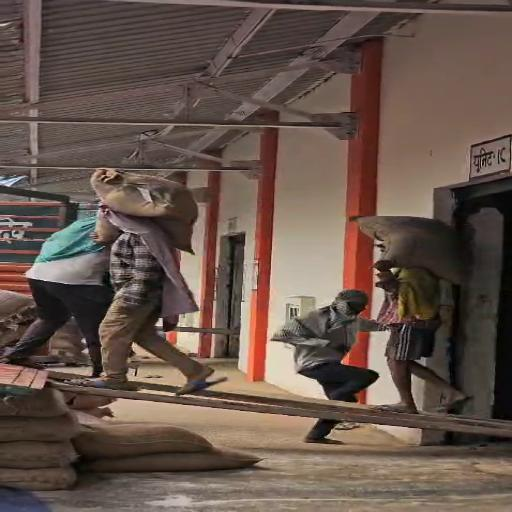bag: (89, 162, 201, 256), (341, 211, 471, 282)
